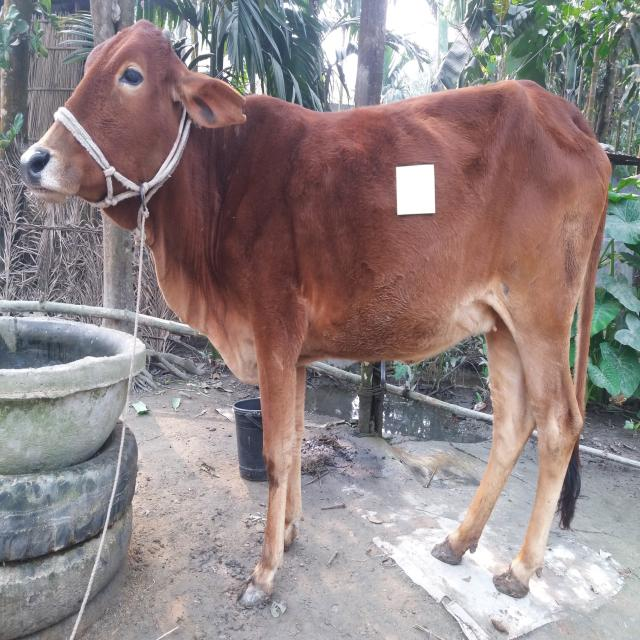badan_sapi: (255, 92, 612, 373)
sapi: (14, 12, 623, 618)
